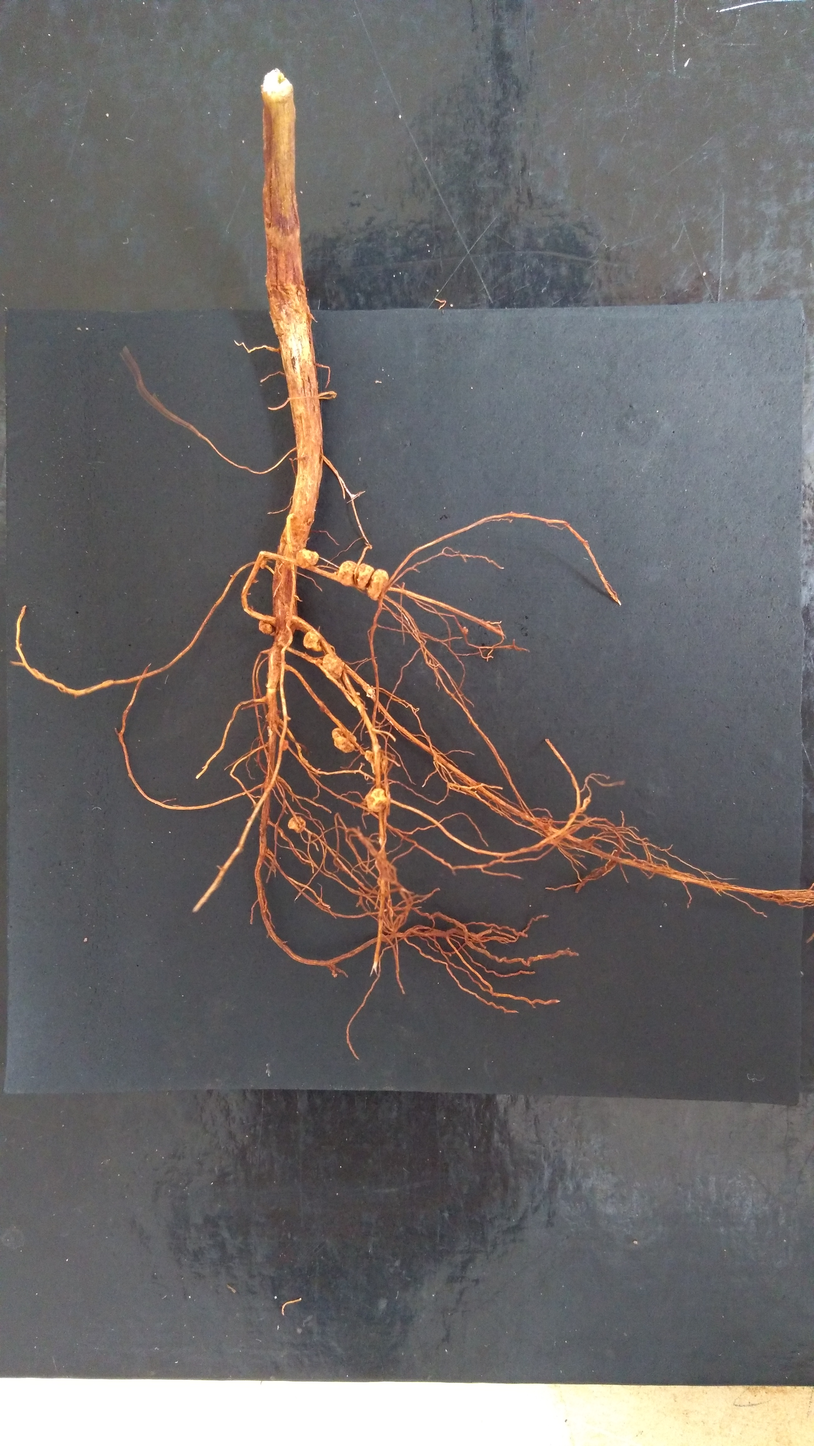nodule: (366, 568, 389, 600), (331, 727, 356, 753), (365, 750, 388, 775), (322, 653, 343, 679), (355, 563, 374, 591), (366, 788, 387, 812), (338, 560, 356, 586), (296, 549, 319, 569), (303, 631, 323, 652), (288, 816, 306, 833), (259, 620, 276, 637), (264, 777, 276, 789), (323, 645, 335, 656), (366, 688, 375, 698), (259, 557, 266, 569), (267, 726, 273, 737), (282, 740, 288, 751), (315, 658, 322, 665), (277, 710, 282, 715)
